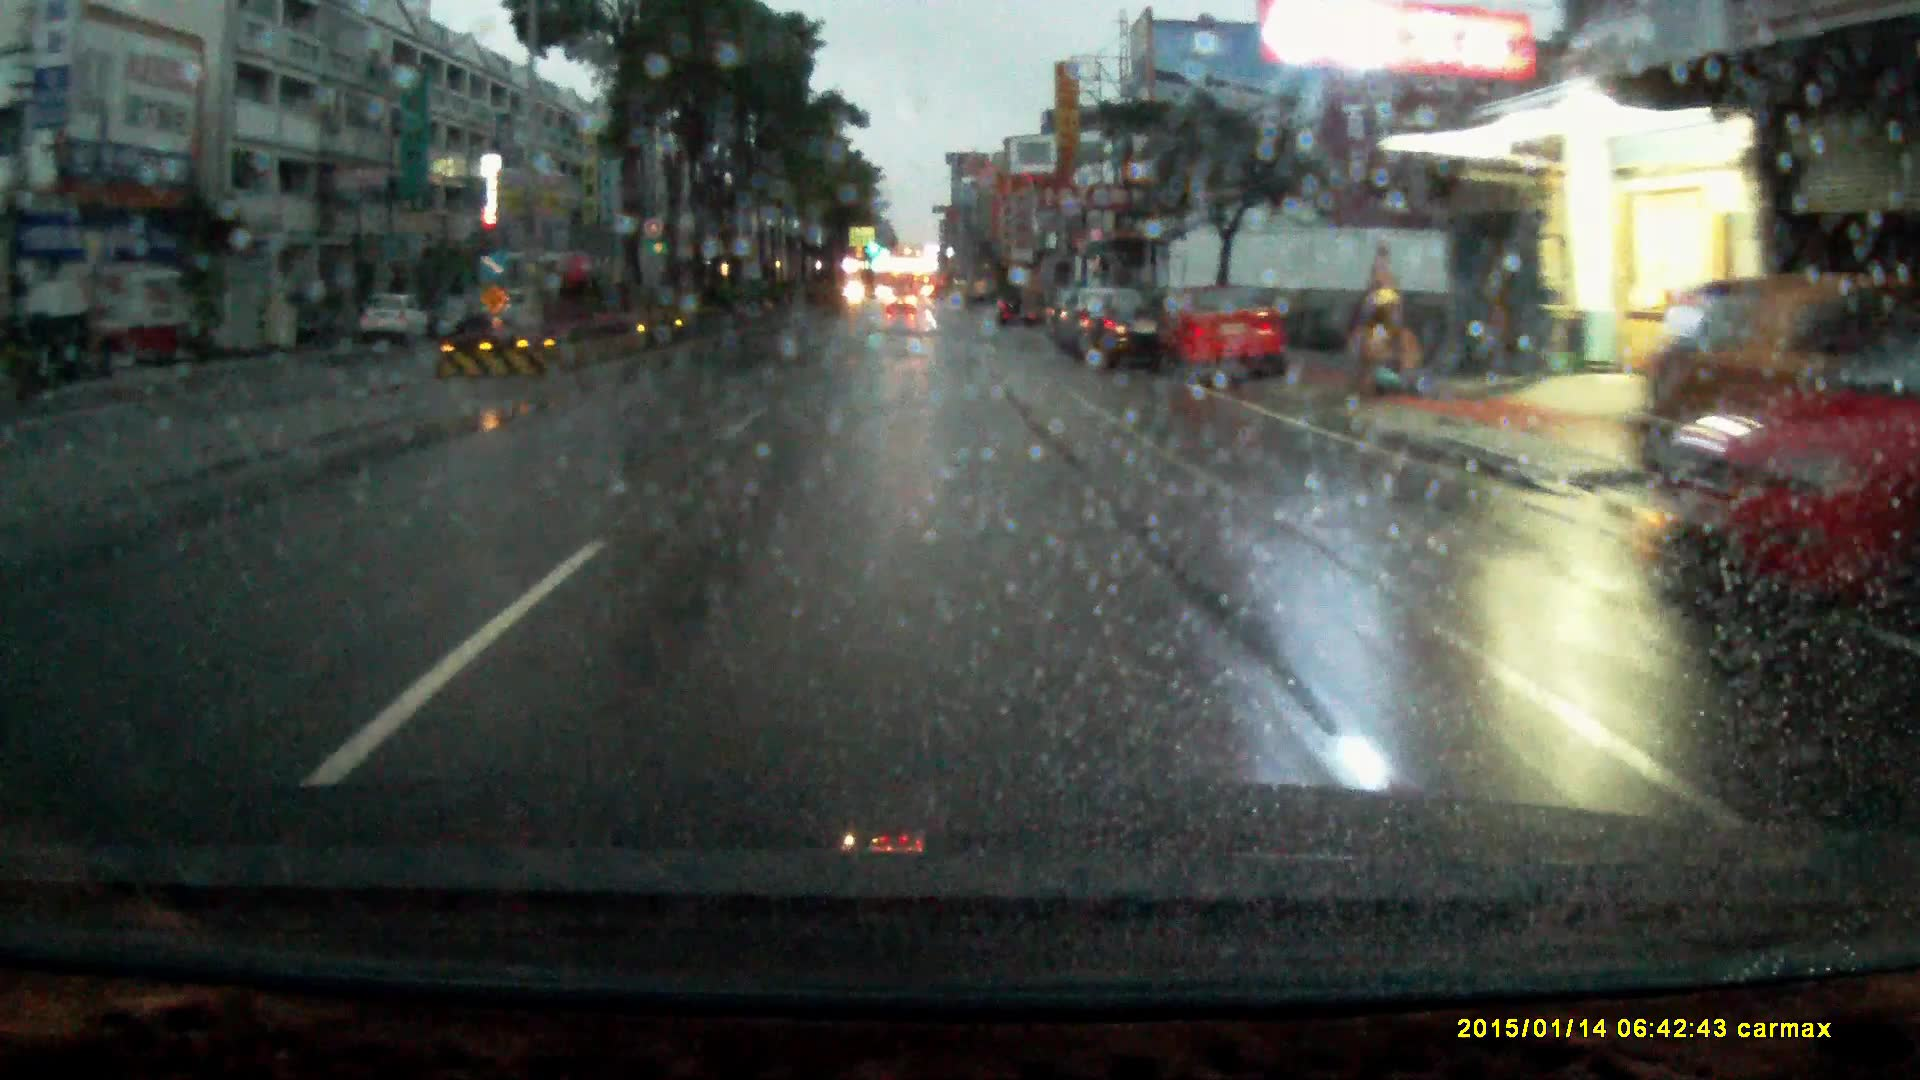vehicle: (1153, 295, 1286, 397), (1071, 299, 1166, 386), (1058, 291, 1133, 363), (355, 291, 433, 347), (467, 287, 550, 334), (1038, 289, 1062, 344), (887, 294, 918, 322)
